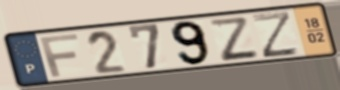2: (85, 28, 131, 75)
7: (126, 22, 164, 71)
9: (169, 20, 216, 67)
F: (37, 32, 81, 78)
Z: (250, 9, 303, 60), (206, 15, 262, 63)
